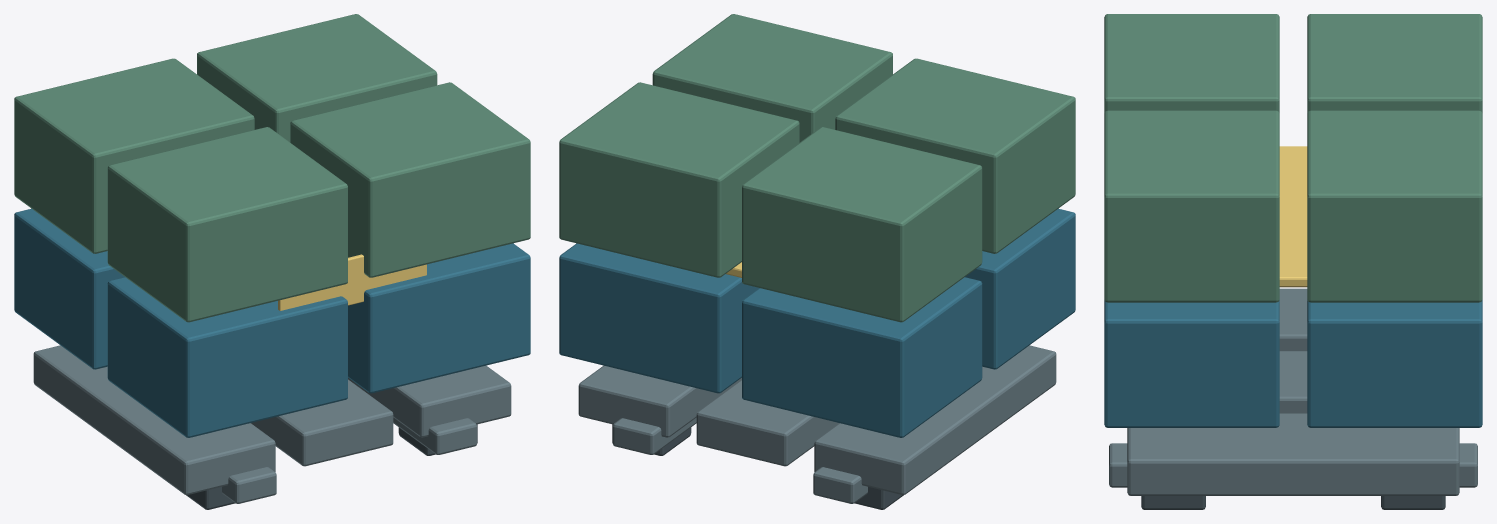
The model's file is pallet_stack_d0.glb.
The picture shows the model from 3 angles, left to right: view 1: azimuth 30°, elevation 25°; view 2: azimuth 150°, elevation 25°; view 3: azimuth 270°, elevation 25°; orthographic projection. The views are drawn at different scales.
Parts seen in each view (by area): view 1: Stacked crate.004, Stacked crate.006, Stacked crate, Stacked crate.005, Stacked crate.002, Stacked crate.007, Pallet deck board, Stacked crate.001, Pallet deck board.001, Pallet deck board.002, Pallet label, Pallet runner.001 (+2 smaller); view 2: Stacked crate.005, Stacked crate.007, Stacked crate.001, Stacked crate.004, Stacked crate.003, Stacked crate.006, Pallet deck board, Stacked crate, Pallet deck board.001, Pallet deck board.002, Pallet runner.001, Pallet runner (+1 smaller); view 3: Stacked crate.006, Stacked crate.007, Pallet deck board.002, Stacked crate.002, Stacked crate.003, Stacked crate.004, Stacked crate.005, Load wrap, Pallet deck board, Pallet deck board.001, Pallet runner.001, Pallet block.002 (+1 smaller).
Boxes of the visible parts, box(x1,y1,x2,y2) form: Stacked crate.004: box(107, 127, 347, 322); Stacked crate.006: box(290, 82, 530, 277); Stacked crate: box(107, 277, 347, 437); Stacked crate.005: box(14, 58, 254, 253); Stacked crate.002: box(348, 243, 530, 393); Stacked crate.007: box(197, 14, 437, 142); Pallet deck board: box(33, 345, 275, 494); Stacked crate.001: box(14, 208, 124, 369); Pallet deck board.001: box(251, 379, 393, 466); Pallet deck board.002: box(348, 365, 511, 437); Pallet label: box(278, 254, 426, 310); Pallet runner.001: box(393, 417, 476, 454); Stacked crate.005: box(742, 127, 982, 322); Stacked crate.007: box(559, 82, 799, 277); Stacked crate.001: box(742, 277, 982, 437); Stacked crate.004: box(835, 58, 1075, 253); Stacked crate.003: box(559, 243, 758, 393); Stacked crate.006: box(652, 14, 892, 142); Pallet deck board: box(814, 345, 1056, 494); Stacked crate: box(965, 208, 1075, 369); Pallet deck board.001: box(696, 379, 838, 466); Pallet deck board.002: box(578, 365, 741, 437); Pallet runner.001: box(613, 417, 696, 454); Pallet runner: box(813, 467, 867, 503); Stacked crate.006: box(1104, 110, 1279, 302); Stacked crate.007: box(1307, 110, 1482, 302); Pallet deck board.002: box(1127, 413, 1459, 495); Stacked crate.002: box(1104, 300, 1279, 427); Stacked crate.003: box(1307, 300, 1482, 427); Stacked crate.004: box(1104, 14, 1279, 113); Stacked crate.005: box(1307, 14, 1482, 113); Load wrap: box(1279, 146, 1307, 287); Pallet deck board: box(1279, 288, 1307, 350); Pallet deck board.001: box(1279, 351, 1307, 413); Pallet runner.001: box(1109, 443, 1477, 487); Pallet block.002: box(1141, 496, 1205, 509).
Bounding box in the file's own units: 2.34 × 2 × 2.05.
